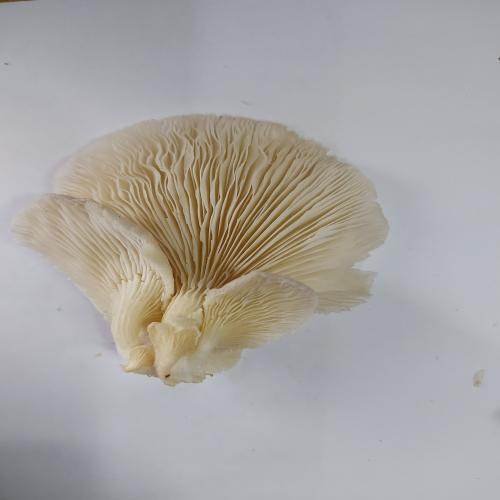Oyster Mushroom: (10, 112, 390, 387)
